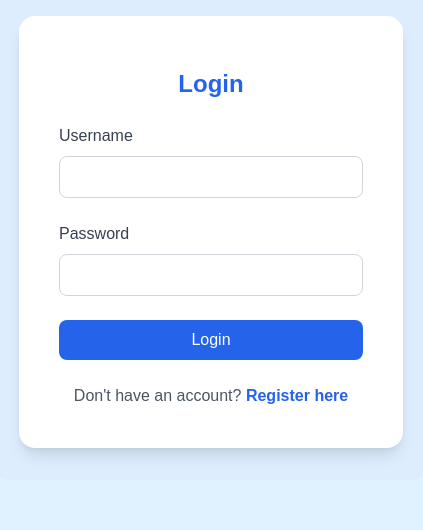
Test: UserLoginForm › successful login redirects to home page
Step 1. Type "testuser" into the field labelled "Username" → (211, 177), box [59,156,363,198]
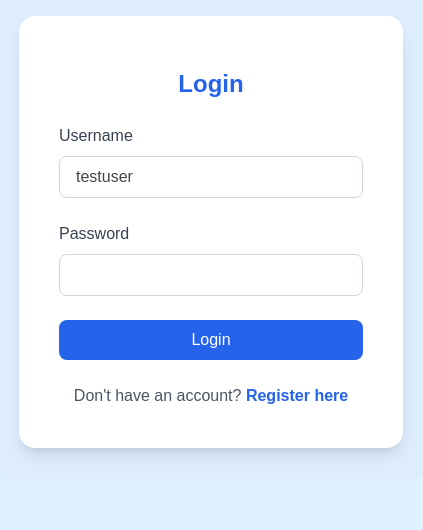
Step 2. Type "password123" into the password field labelled "Password" → (211, 275), box [59,254,363,296]
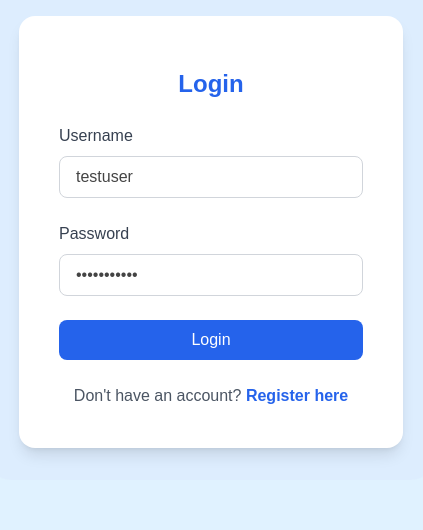
Step 3. Click the button "Login" → (211, 340), box [59,320,363,360]
Wait 2000 ms
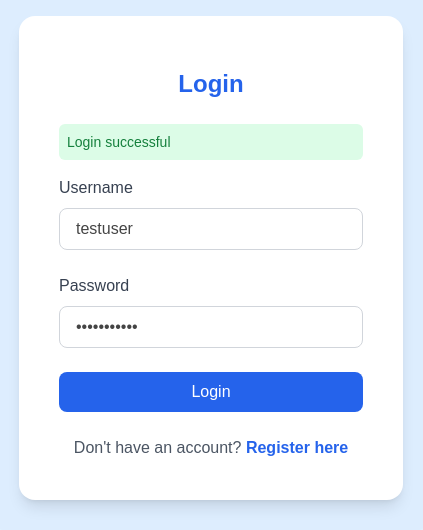
Expected: the list item "Login successful" is shown, [59,124,363,160]
